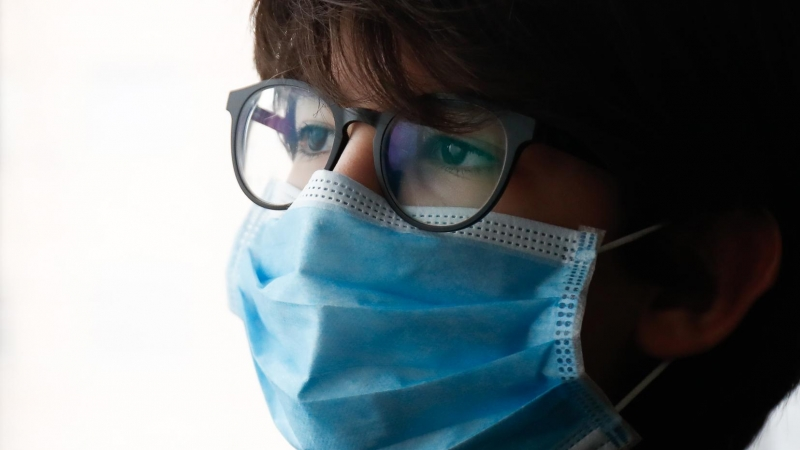with_mask: (208, 4, 739, 450)
